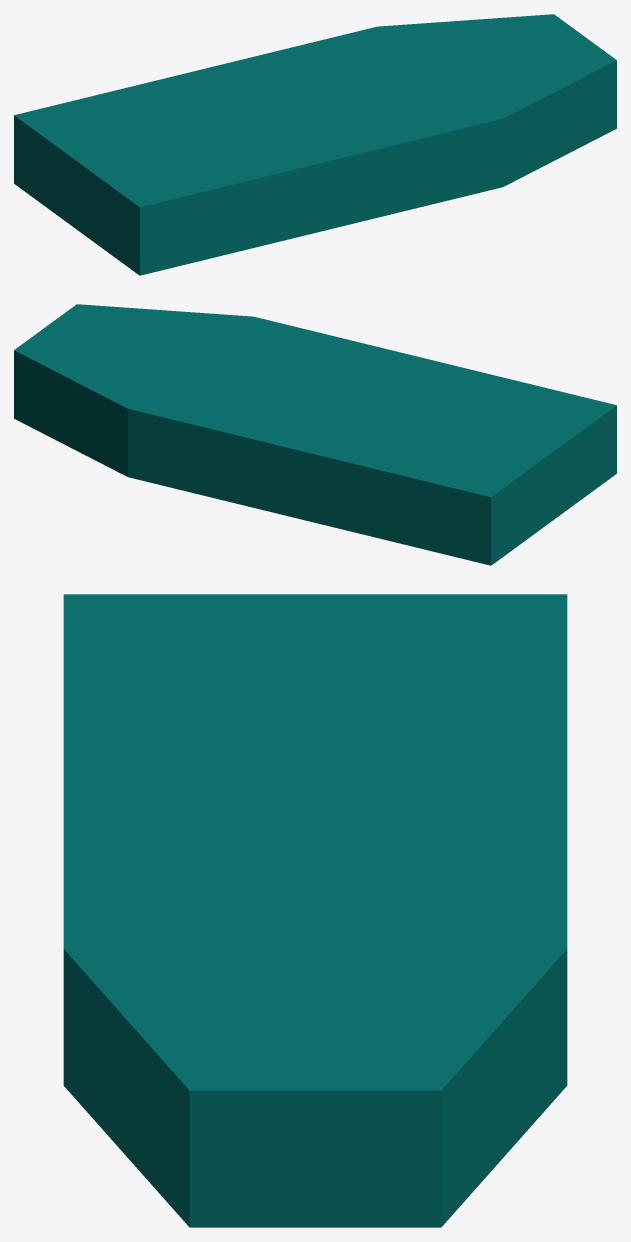
Rendered from trabajo.dae.
3 views of the same model, one above another, from view 1: azimuth 30°, elevation 25°; view 2: azimuth 150°, elevation 25°; view 3: azimuth 270°, elevation 25° (orthographic). The views are drawn at different scales.
Parts seen in each view (by area): view 1: node0; view 2: node0; view 3: node0.
Part boxes in pixels (x1=…): node0: x1=14, y1=14, x2=616, y2=275; node0: x1=14, y1=304, x2=616, y2=565; node0: x1=63, y1=594, x2=567, y2=1227.
Size of the model in its own units: 0.07 by 0.03 by 0.009.
